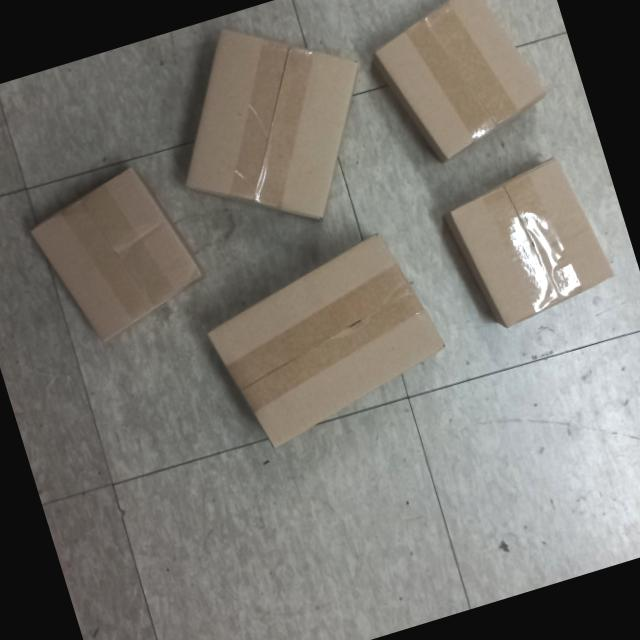box: (182, 211, 472, 468), (132, 0, 406, 262), (11, 146, 218, 362), (433, 140, 629, 342), (351, 0, 564, 177)
